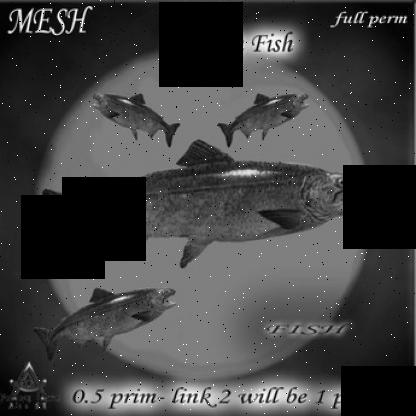fish: (40, 137, 367, 267), (35, 282, 175, 360), (84, 85, 176, 149), (218, 86, 316, 143)
